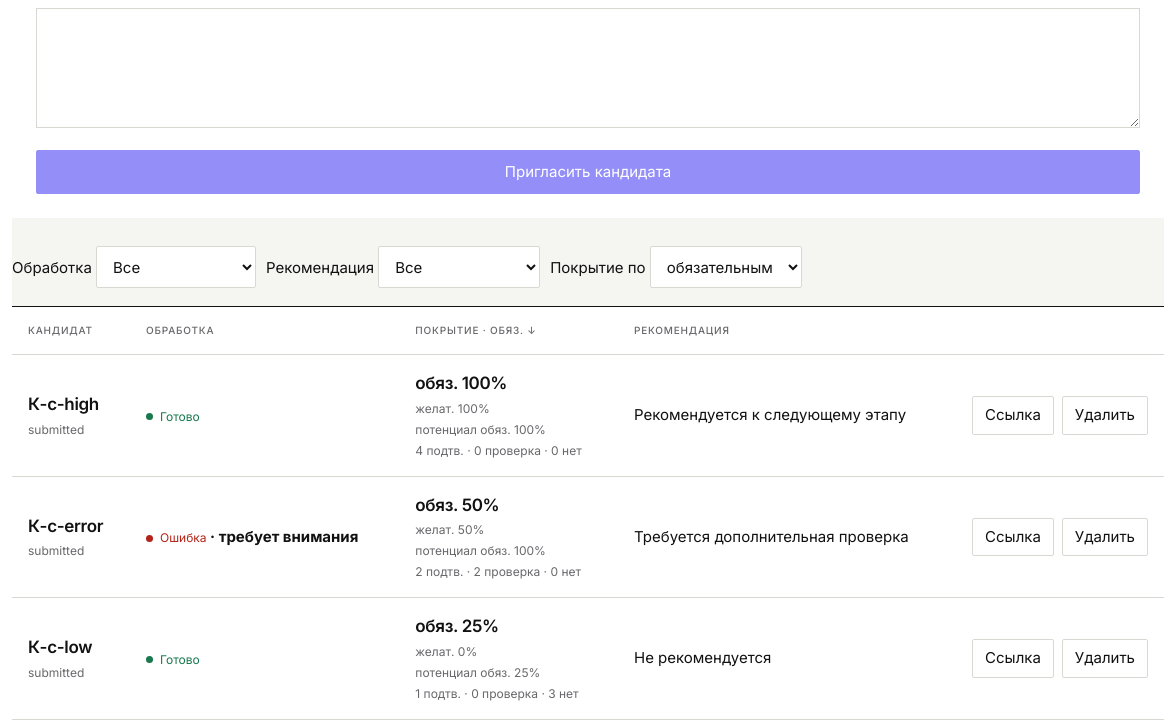
Test: CandidateListPage › удаляет кандидата из списка после подтверждения
(page scrolled)
Click the button "Удалить" in the row of "К-c-high".
click(1105, 416)  # box [1062, 396, 1148, 435]
(page scrolled)
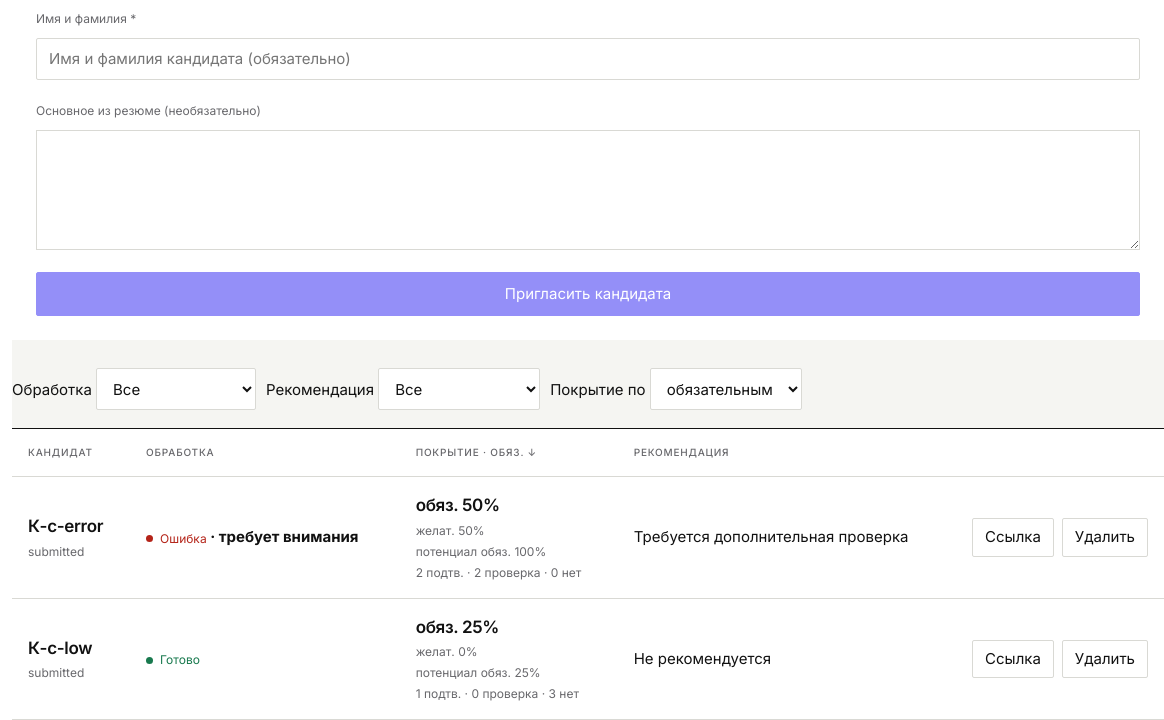
Result: the number of rows with test id "candidate-row" is 2 at [12, 477, 1163, 598]; [12, 598, 1163, 719]
